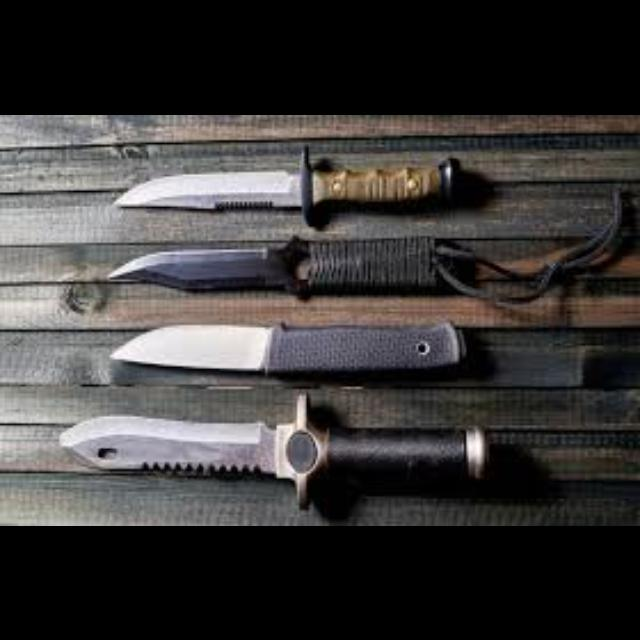Knife: (57, 388, 637, 518), (105, 185, 637, 299), (108, 318, 638, 390), (112, 144, 494, 226)
